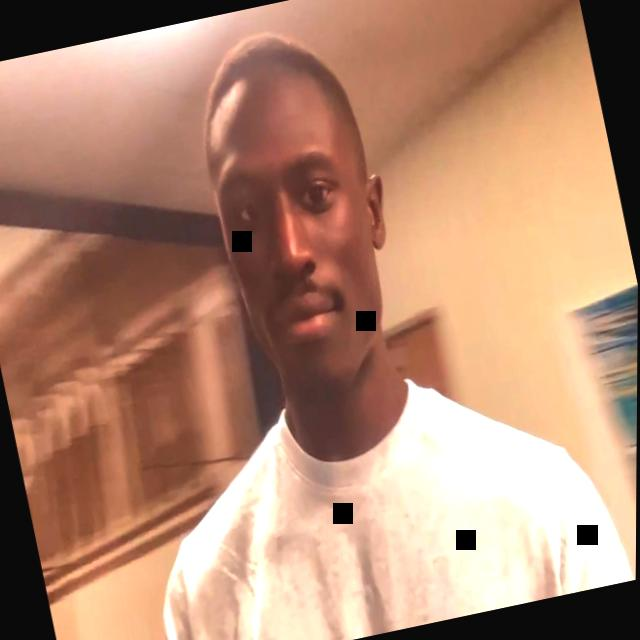NO-Mask: (193, 64, 424, 415)
